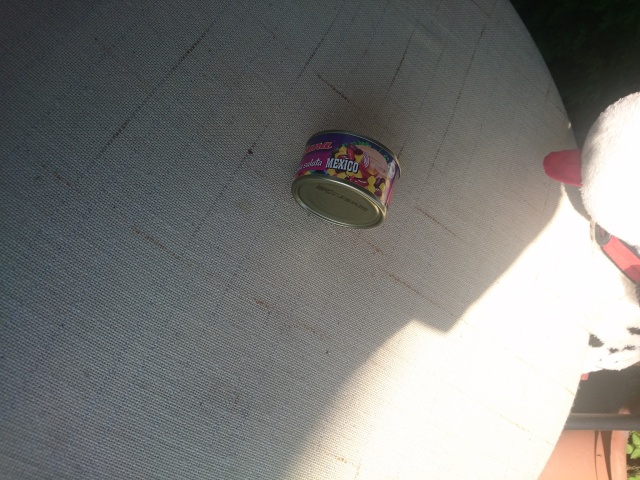Giana Tuna Salad Mexico 185g: (287, 127, 403, 231)
